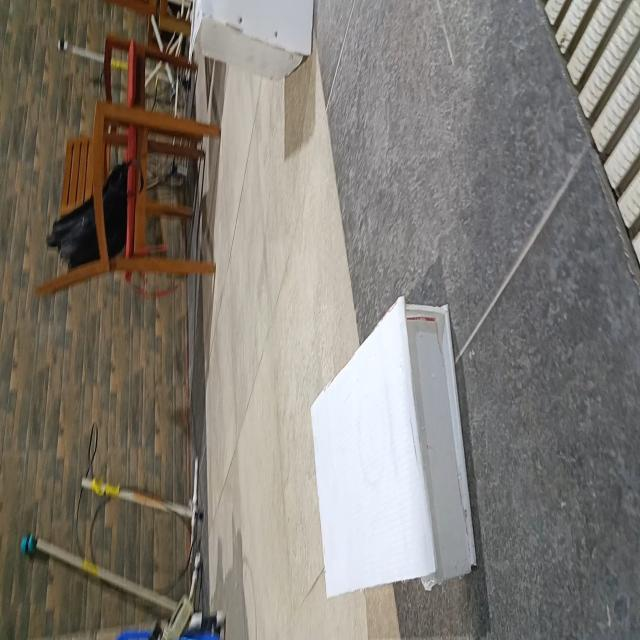Cuboid: (309, 294, 477, 600)
